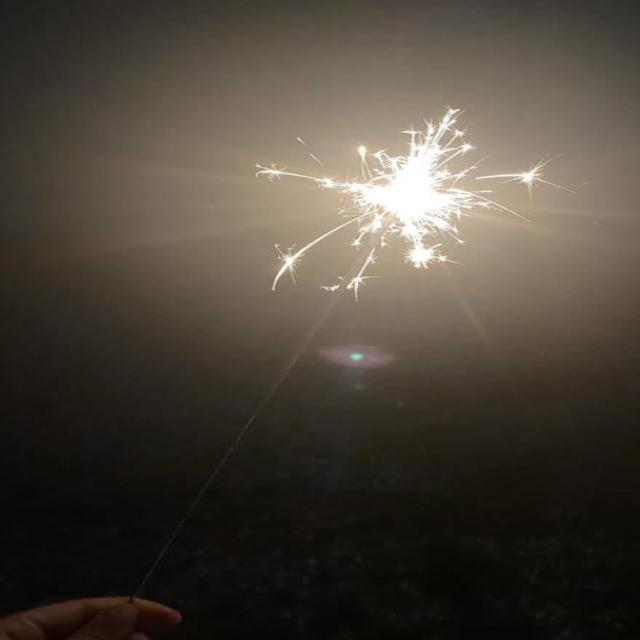fire: (358, 143, 451, 238)
